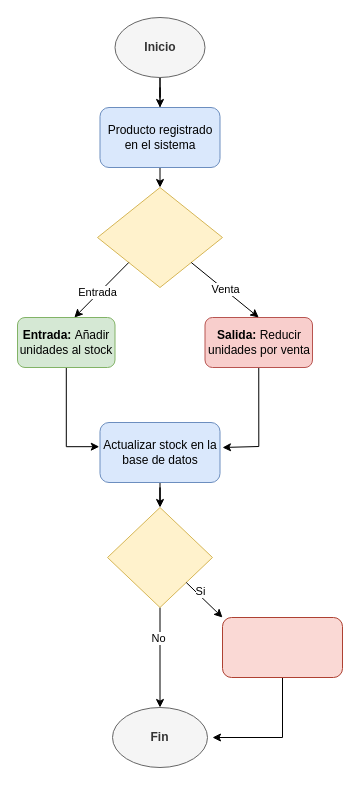
This 360x785 diagram has some shape labels left out. The shapes that lost their labels are listed below. From the top down, each one's box as (x1, y1, x2, y2) in pixels, then its label:
(96, 186, 222, 288): ¿Entrada o salida de stock?
(106, 506, 212, 608): ¿Stock agotado?
(222, 616, 342, 678): Marcar como no disponible
